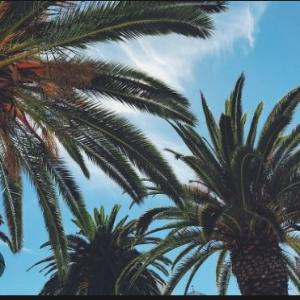palm tree: (0, 0, 229, 294), (133, 70, 299, 295)
